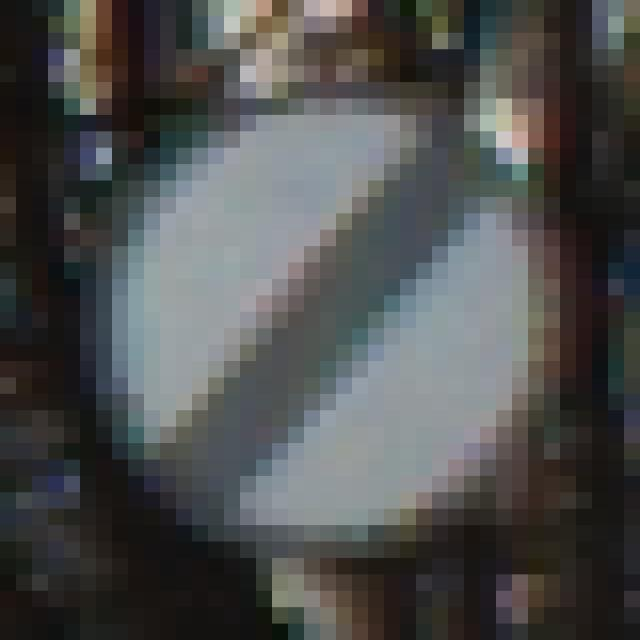restriction ends: (69, 64, 581, 569)
